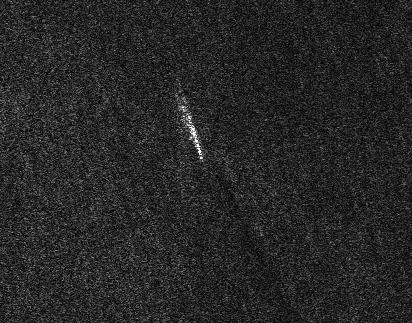ship: (176, 97, 206, 162)
